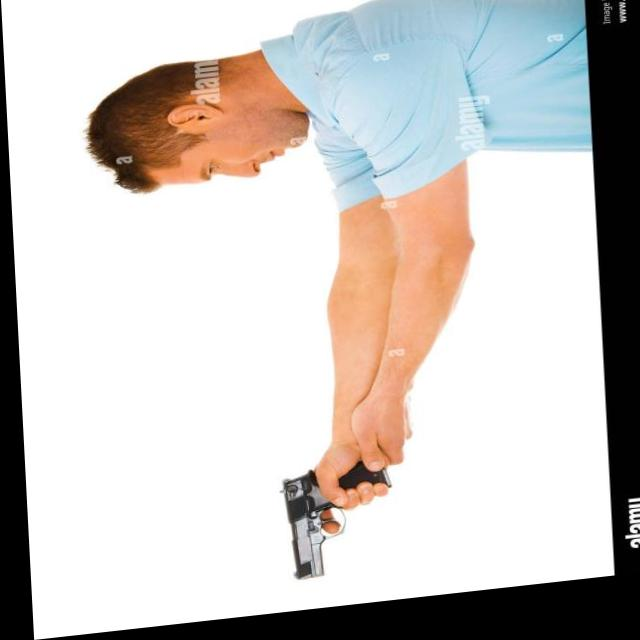handgun: (273, 466, 386, 588)
